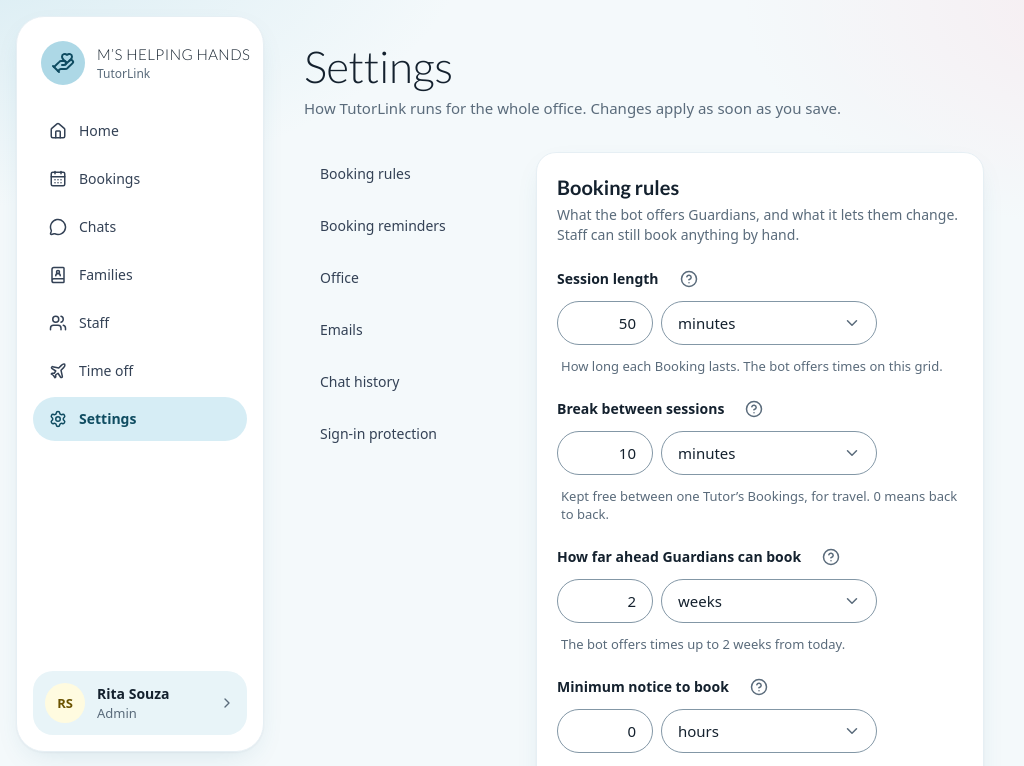
Scenario: editing and saving › keeps the edits and says so when the save fails
This screenshot has width=1024, height=766.
Expected: the heading "Booking rules" is shown, [557,173,963,245]
Replace the text in the field named "Session length" with "45" at (605, 323), box [557,301,653,345]
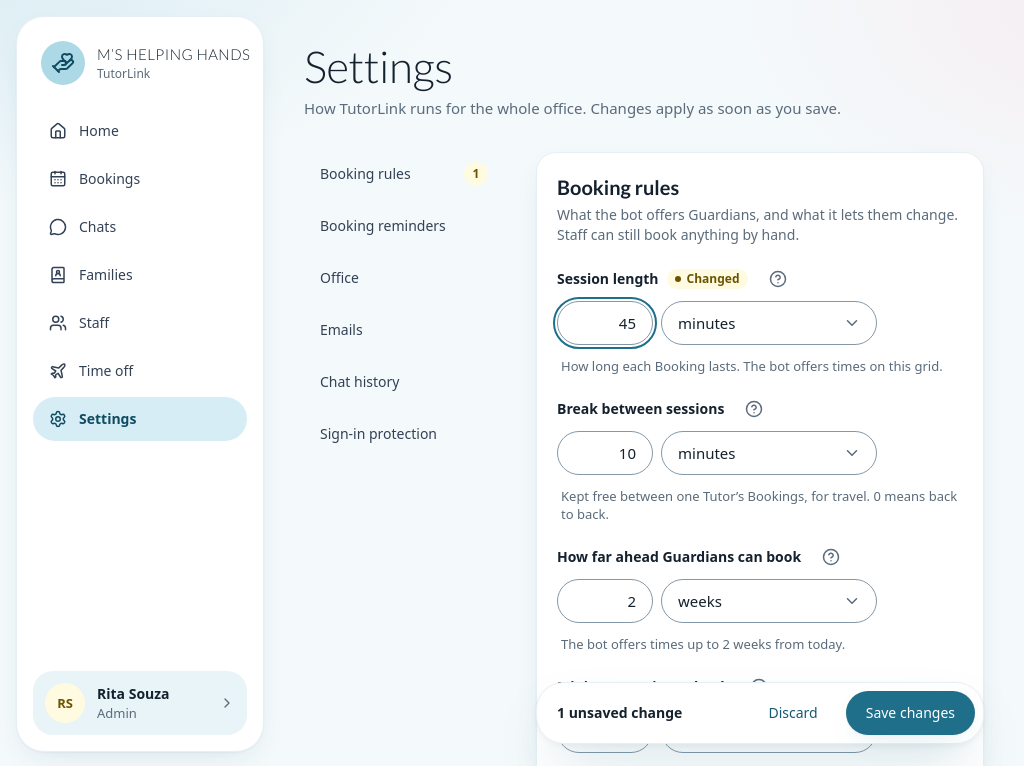
Click the button "Save changes" at (910, 713), box [846,691,975,735]
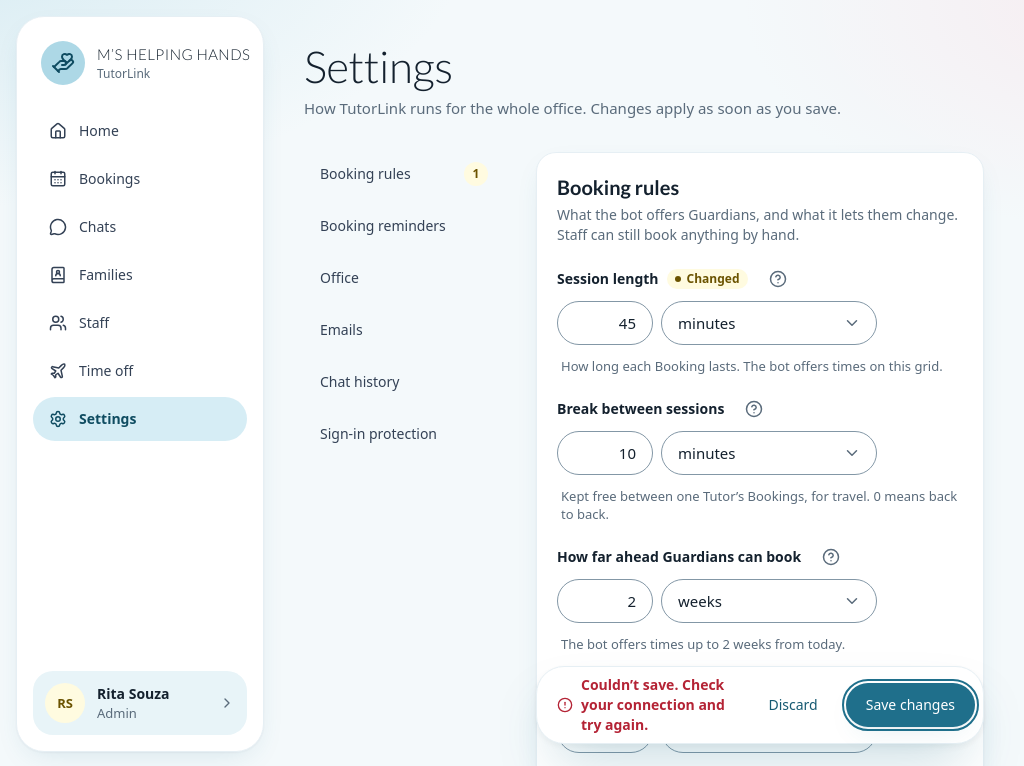
Expected: the element named "Unsaved changes" shows "Couldn’t save. Check your connection and try again.", [581,675,725,734]
